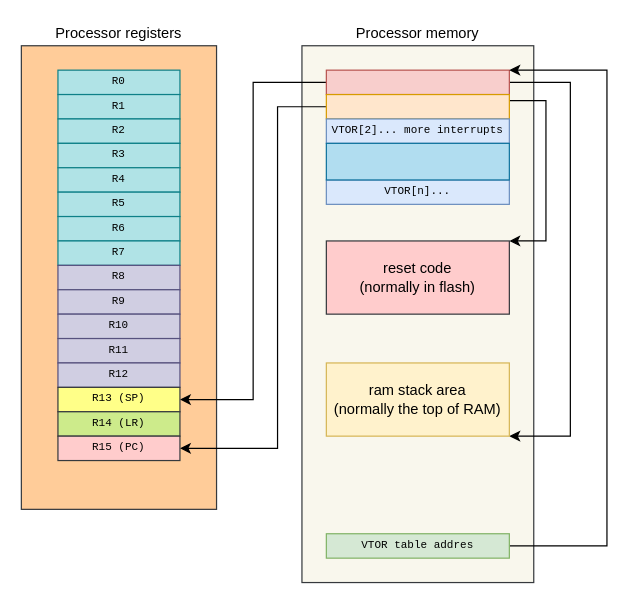
The diagram is 638 pixels wide and 604 high, and some of its shapes have lost their labels. Here are the shapes that lost their labels. From the top down, the box of each, then its label:
(325, 69, 509, 95): VTOR[0] = stack pointer
(325, 93, 509, 119): VTOR[1] = reset address
